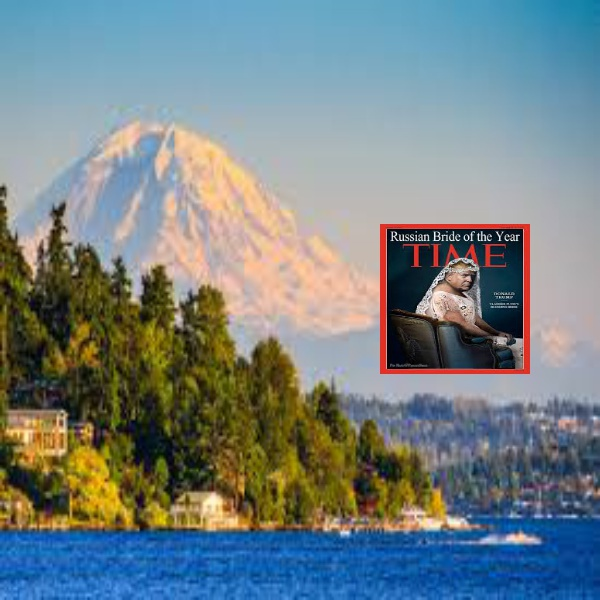time_cover: (372, 214, 534, 373)
